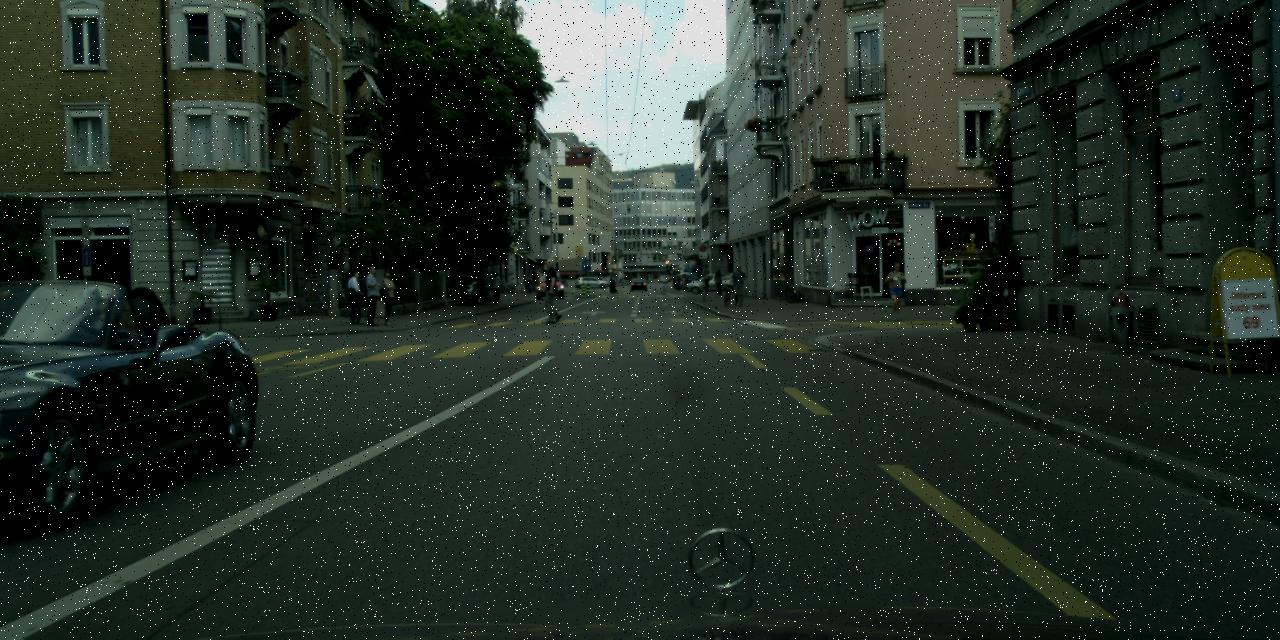ped: (358, 265, 383, 325), (540, 258, 564, 320), (884, 260, 908, 320), (376, 269, 398, 324), (344, 270, 366, 323), (730, 264, 746, 304), (490, 272, 502, 303), (713, 268, 724, 296), (608, 275, 616, 294), (702, 274, 709, 294), (722, 288, 729, 306), (524, 275, 530, 293)
